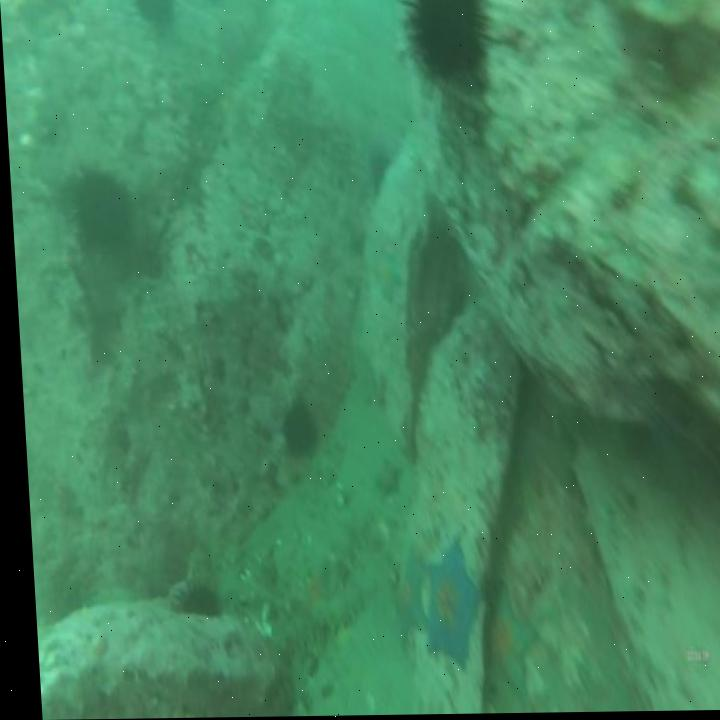echinus: (410, 0, 487, 82), (69, 177, 129, 248), (278, 404, 310, 458), (170, 583, 213, 621)
holothurian: (312, 590, 363, 628)
starfish: (418, 539, 472, 667), (477, 586, 530, 703), (384, 555, 420, 641)
